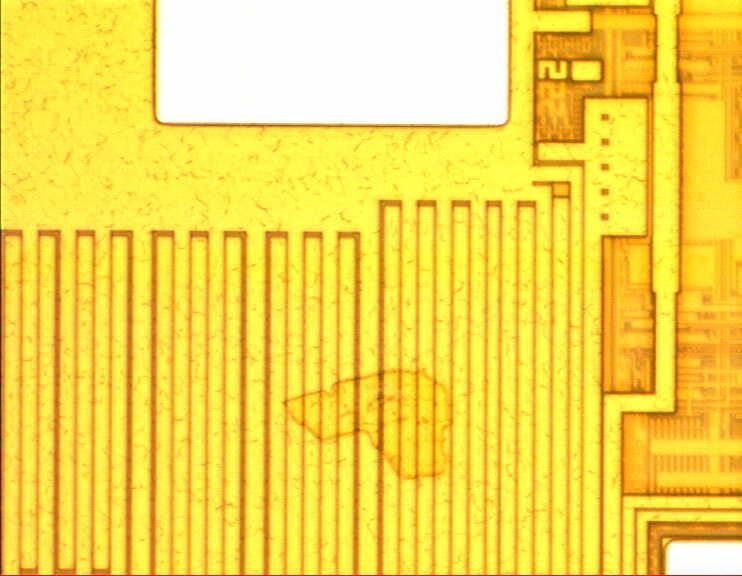PIQ PARTICLE: (279, 367, 453, 484)
